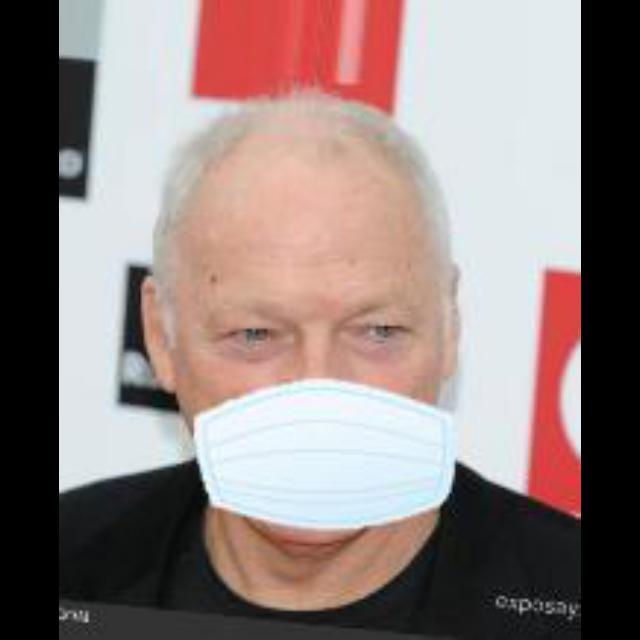suspicion: (170, 138, 462, 507)
